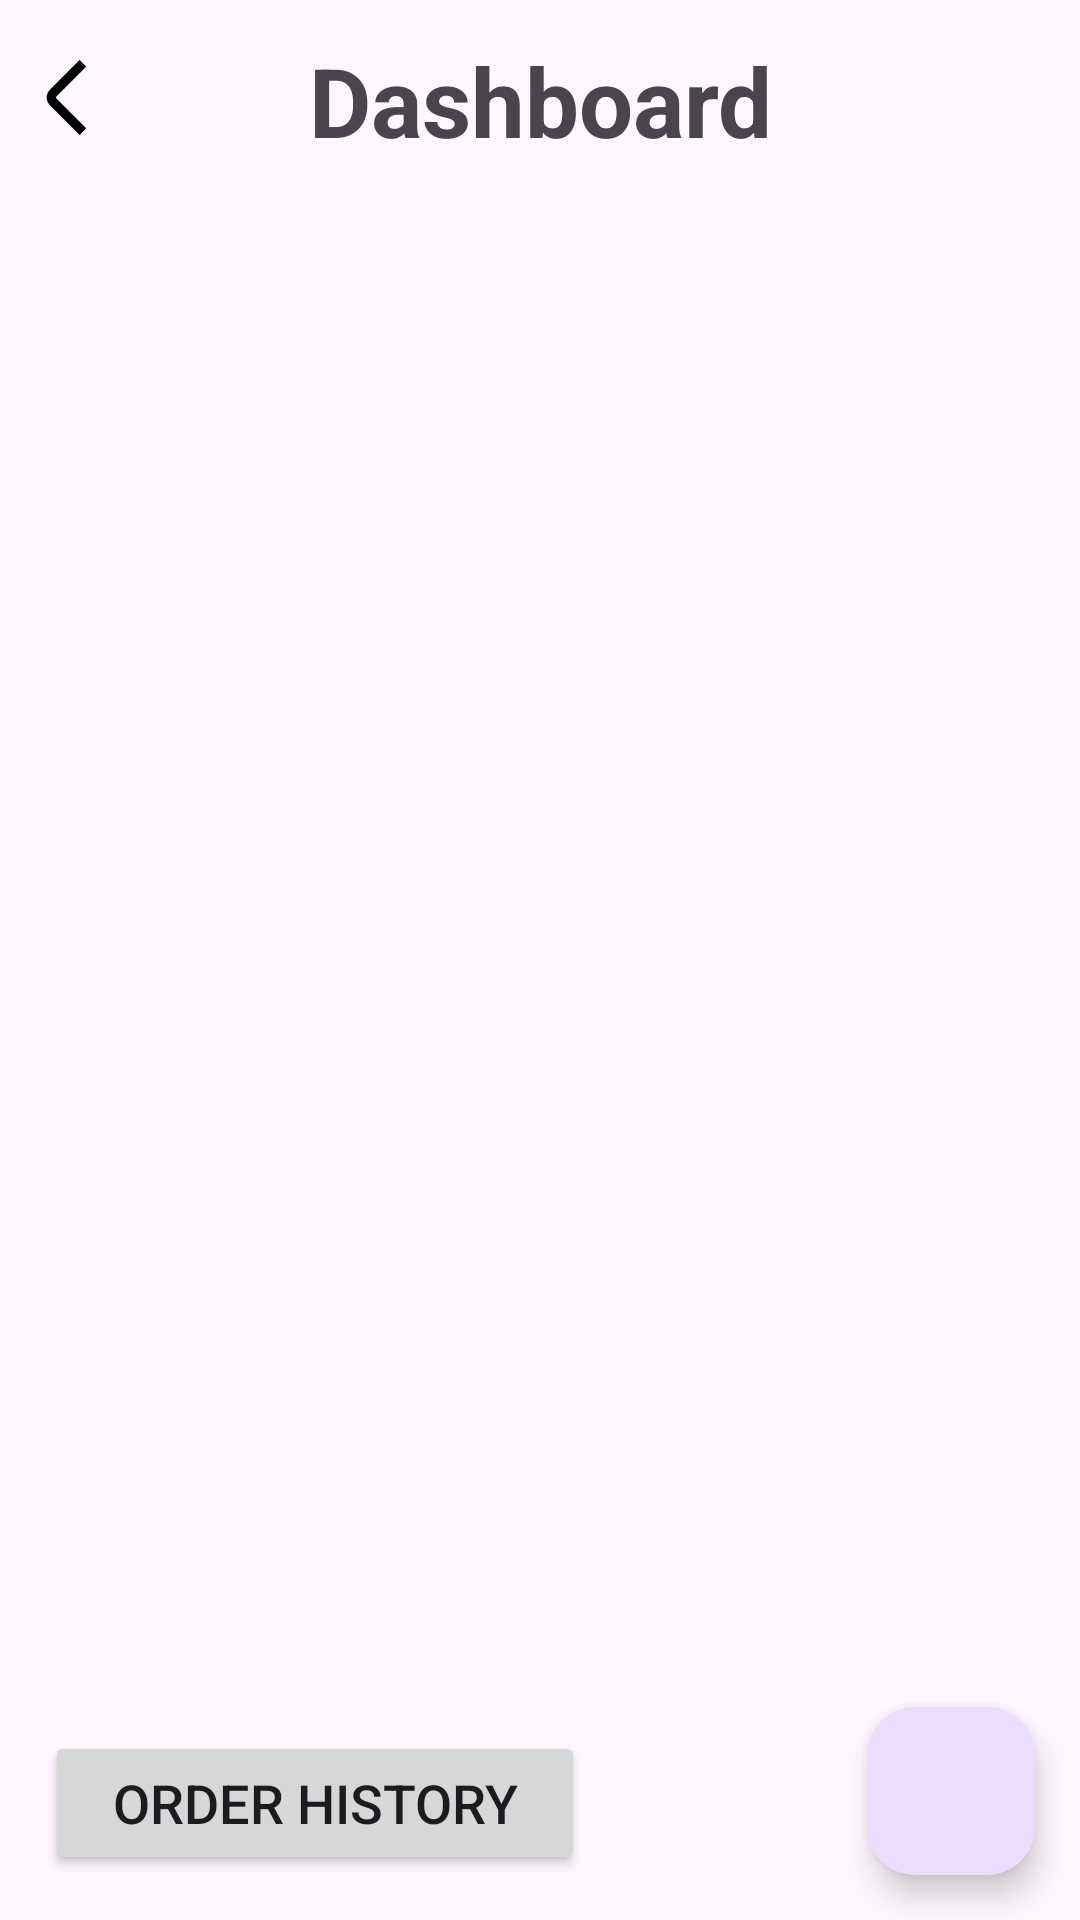

Icons on this 1080x1920 Android screen, each with the point to tap as (x=x, y=y):
back: (x=66, y=97)
